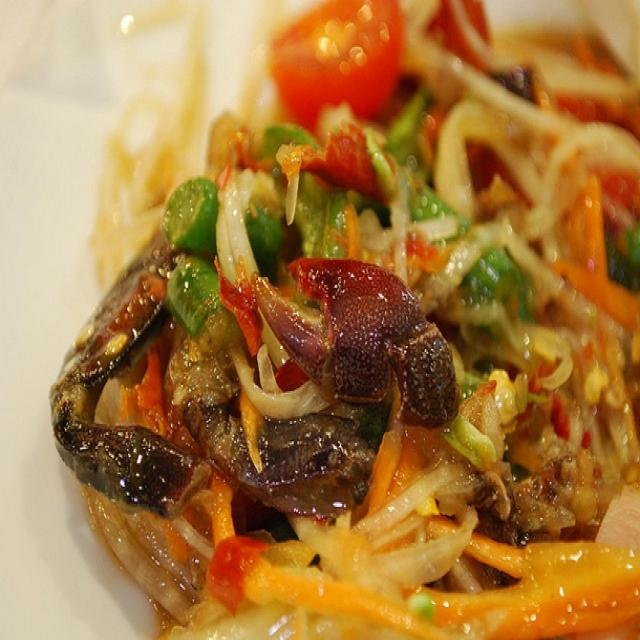蔬菜料理: (45, 34, 618, 610)
